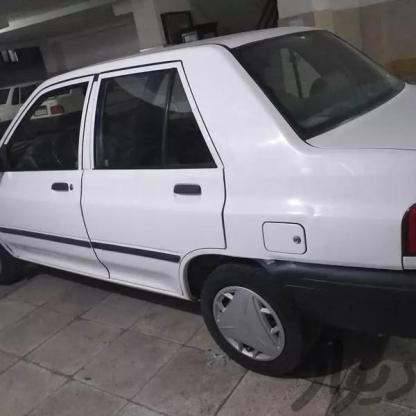Car: (0, 15, 416, 401)
